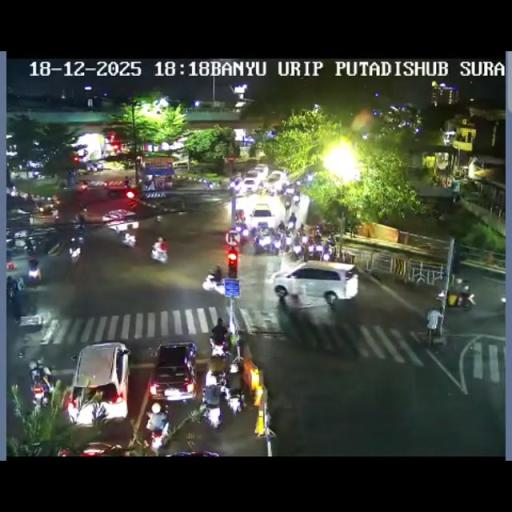Car: (68, 342, 130, 424), (272, 260, 359, 305), (148, 342, 198, 403), (101, 208, 137, 231), (67, 441, 126, 455), (250, 202, 275, 230), (105, 178, 135, 197), (266, 170, 287, 191), (241, 177, 260, 193), (253, 164, 269, 178)
Motorcycle: (144, 404, 170, 450), (30, 368, 53, 407), (202, 363, 228, 396), (443, 283, 474, 310), (202, 398, 222, 430), (208, 336, 230, 362), (226, 386, 244, 416), (254, 230, 276, 252), (305, 239, 327, 261), (8, 288, 22, 322), (66, 390, 80, 424), (150, 242, 168, 264), (23, 234, 45, 252), (206, 266, 222, 290), (286, 240, 304, 261), (27, 264, 42, 286), (69, 242, 81, 264), (121, 231, 136, 248), (77, 209, 87, 233), (496, 292, 506, 315), (278, 230, 288, 252), (290, 189, 301, 205), (228, 358, 239, 374), (436, 288, 447, 304), (234, 214, 246, 228), (75, 229, 85, 244), (249, 225, 258, 240), (312, 229, 322, 242), (326, 233, 335, 247), (50, 196, 62, 206), (288, 212, 296, 227), (283, 196, 291, 210), (50, 207, 58, 221), (6, 228, 14, 242), (452, 191, 461, 203), (298, 223, 306, 236), (278, 220, 286, 233), (86, 162, 95, 173), (81, 179, 89, 191), (260, 186, 269, 196), (260, 225, 269, 235), (129, 220, 138, 230), (301, 233, 309, 244), (95, 161, 104, 170), (154, 214, 162, 224), (229, 180, 237, 190), (58, 180, 66, 190), (26, 193, 34, 202), (31, 170, 39, 178), (208, 180, 214, 190)
